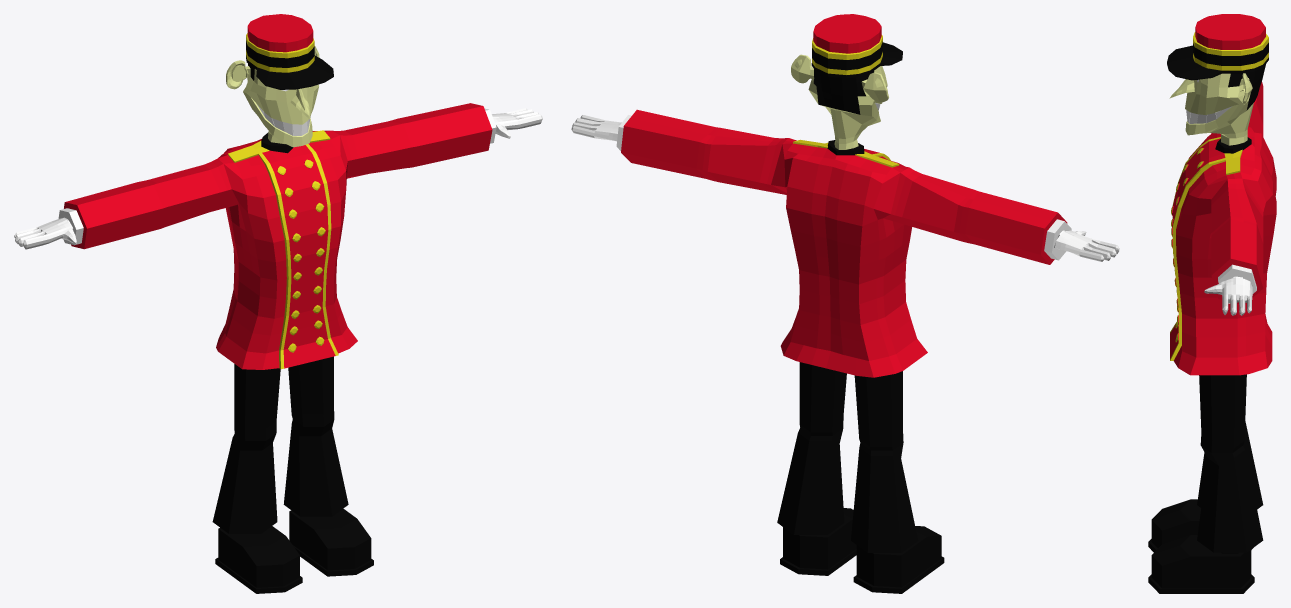
The model's file is Bellboy Placeholder.fbx.
3 views of the same model, side by side, from view 1: azimuth 30°, elevation 25°; view 2: azimuth 150°, elevation 25°; view 3: azimuth 270°, elevation 25° (orthographic). The views are drawn at different scales.
Parts seen in each view (by area): view 1: Bellboy; view 2: Bellboy; view 3: Bellboy.
Part boxes in pixels (x1,y1,x2,y2): Bellboy: [14, 14, 542, 593]; Bellboy: [571, 14, 1119, 593]; Bellboy: [1148, 14, 1276, 593].
Size of the model in its own units: 475 by 458 by 98.97.
